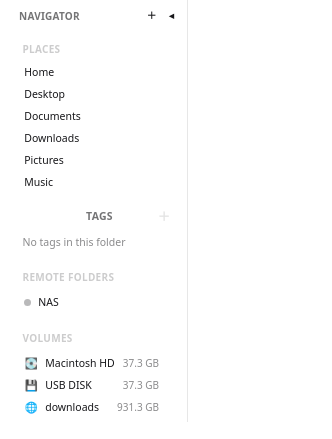
Scenario: Sidebar volumes section › right-click on a remote shows open/disconnect/remove
The width and height of the screenshot is (332, 439).
Expected: the text "NAS" is shown, [38, 295, 59, 310]
Step 1. Right-click the button "NAS" → (100, 302), box [16, 292, 184, 314]
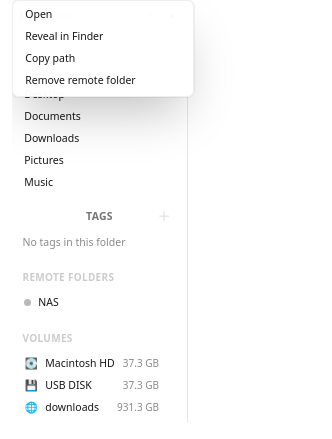
Expected: the element with class "fixed" shows "Open", [16, 4, 190, 26]
Expected: the element with class "fixed" shows "Remove", [16, 70, 190, 92]
Expected: the element with class "fixed" shows "Copy path", [16, 48, 190, 70]
